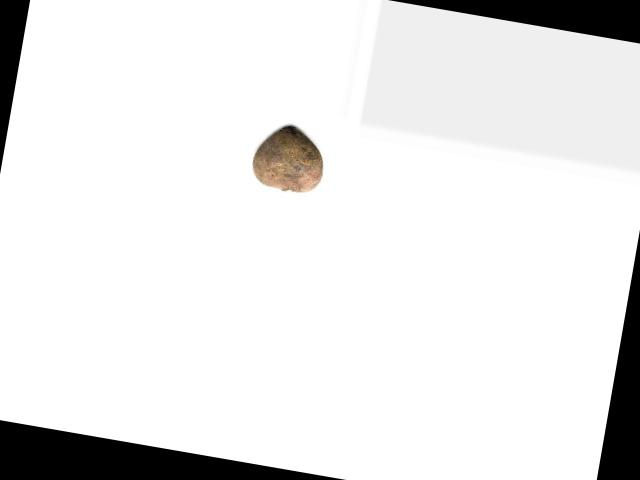beet: (249, 120, 330, 196)
